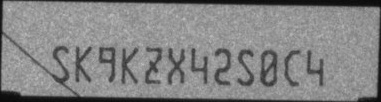0: (260, 49, 279, 86)
2: (214, 47, 232, 86)
4: (306, 50, 326, 87), (191, 47, 209, 86)
9: (98, 46, 117, 83)
C: (284, 48, 301, 86)
K: (74, 44, 93, 83), (121, 45, 139, 85)
S: (236, 48, 256, 87), (52, 44, 71, 82)
X: (167, 46, 186, 86)
Z: (144, 45, 161, 85)
